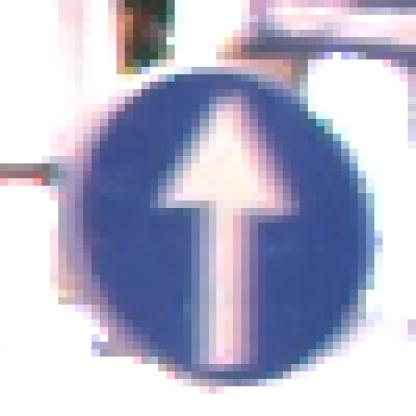AheadOnly: (51, 46, 367, 373)
